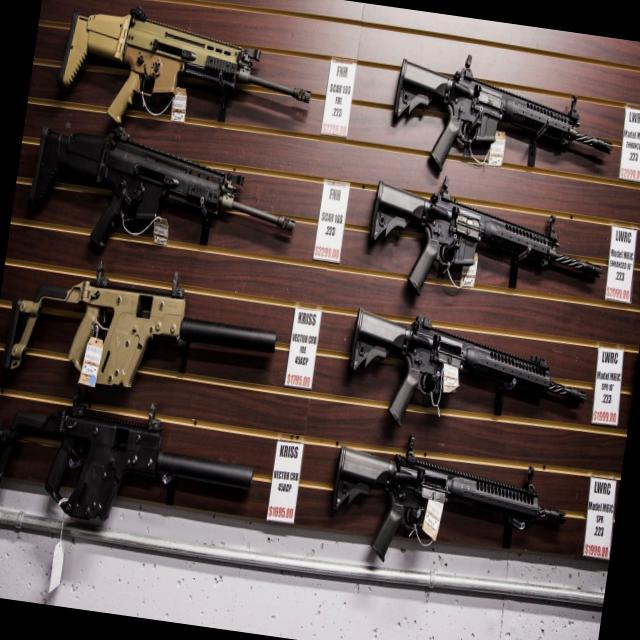long weapon: (0, 377, 265, 573), (0, 257, 292, 418), (22, 124, 310, 281), (318, 434, 572, 596), (49, 0, 313, 155), (336, 312, 594, 436), (376, 45, 616, 178), (358, 172, 592, 306)
